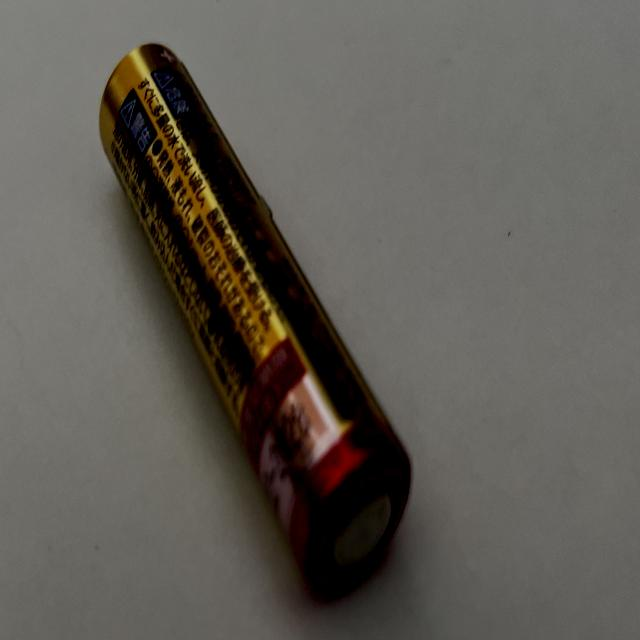AA: (98, 39, 412, 600)
